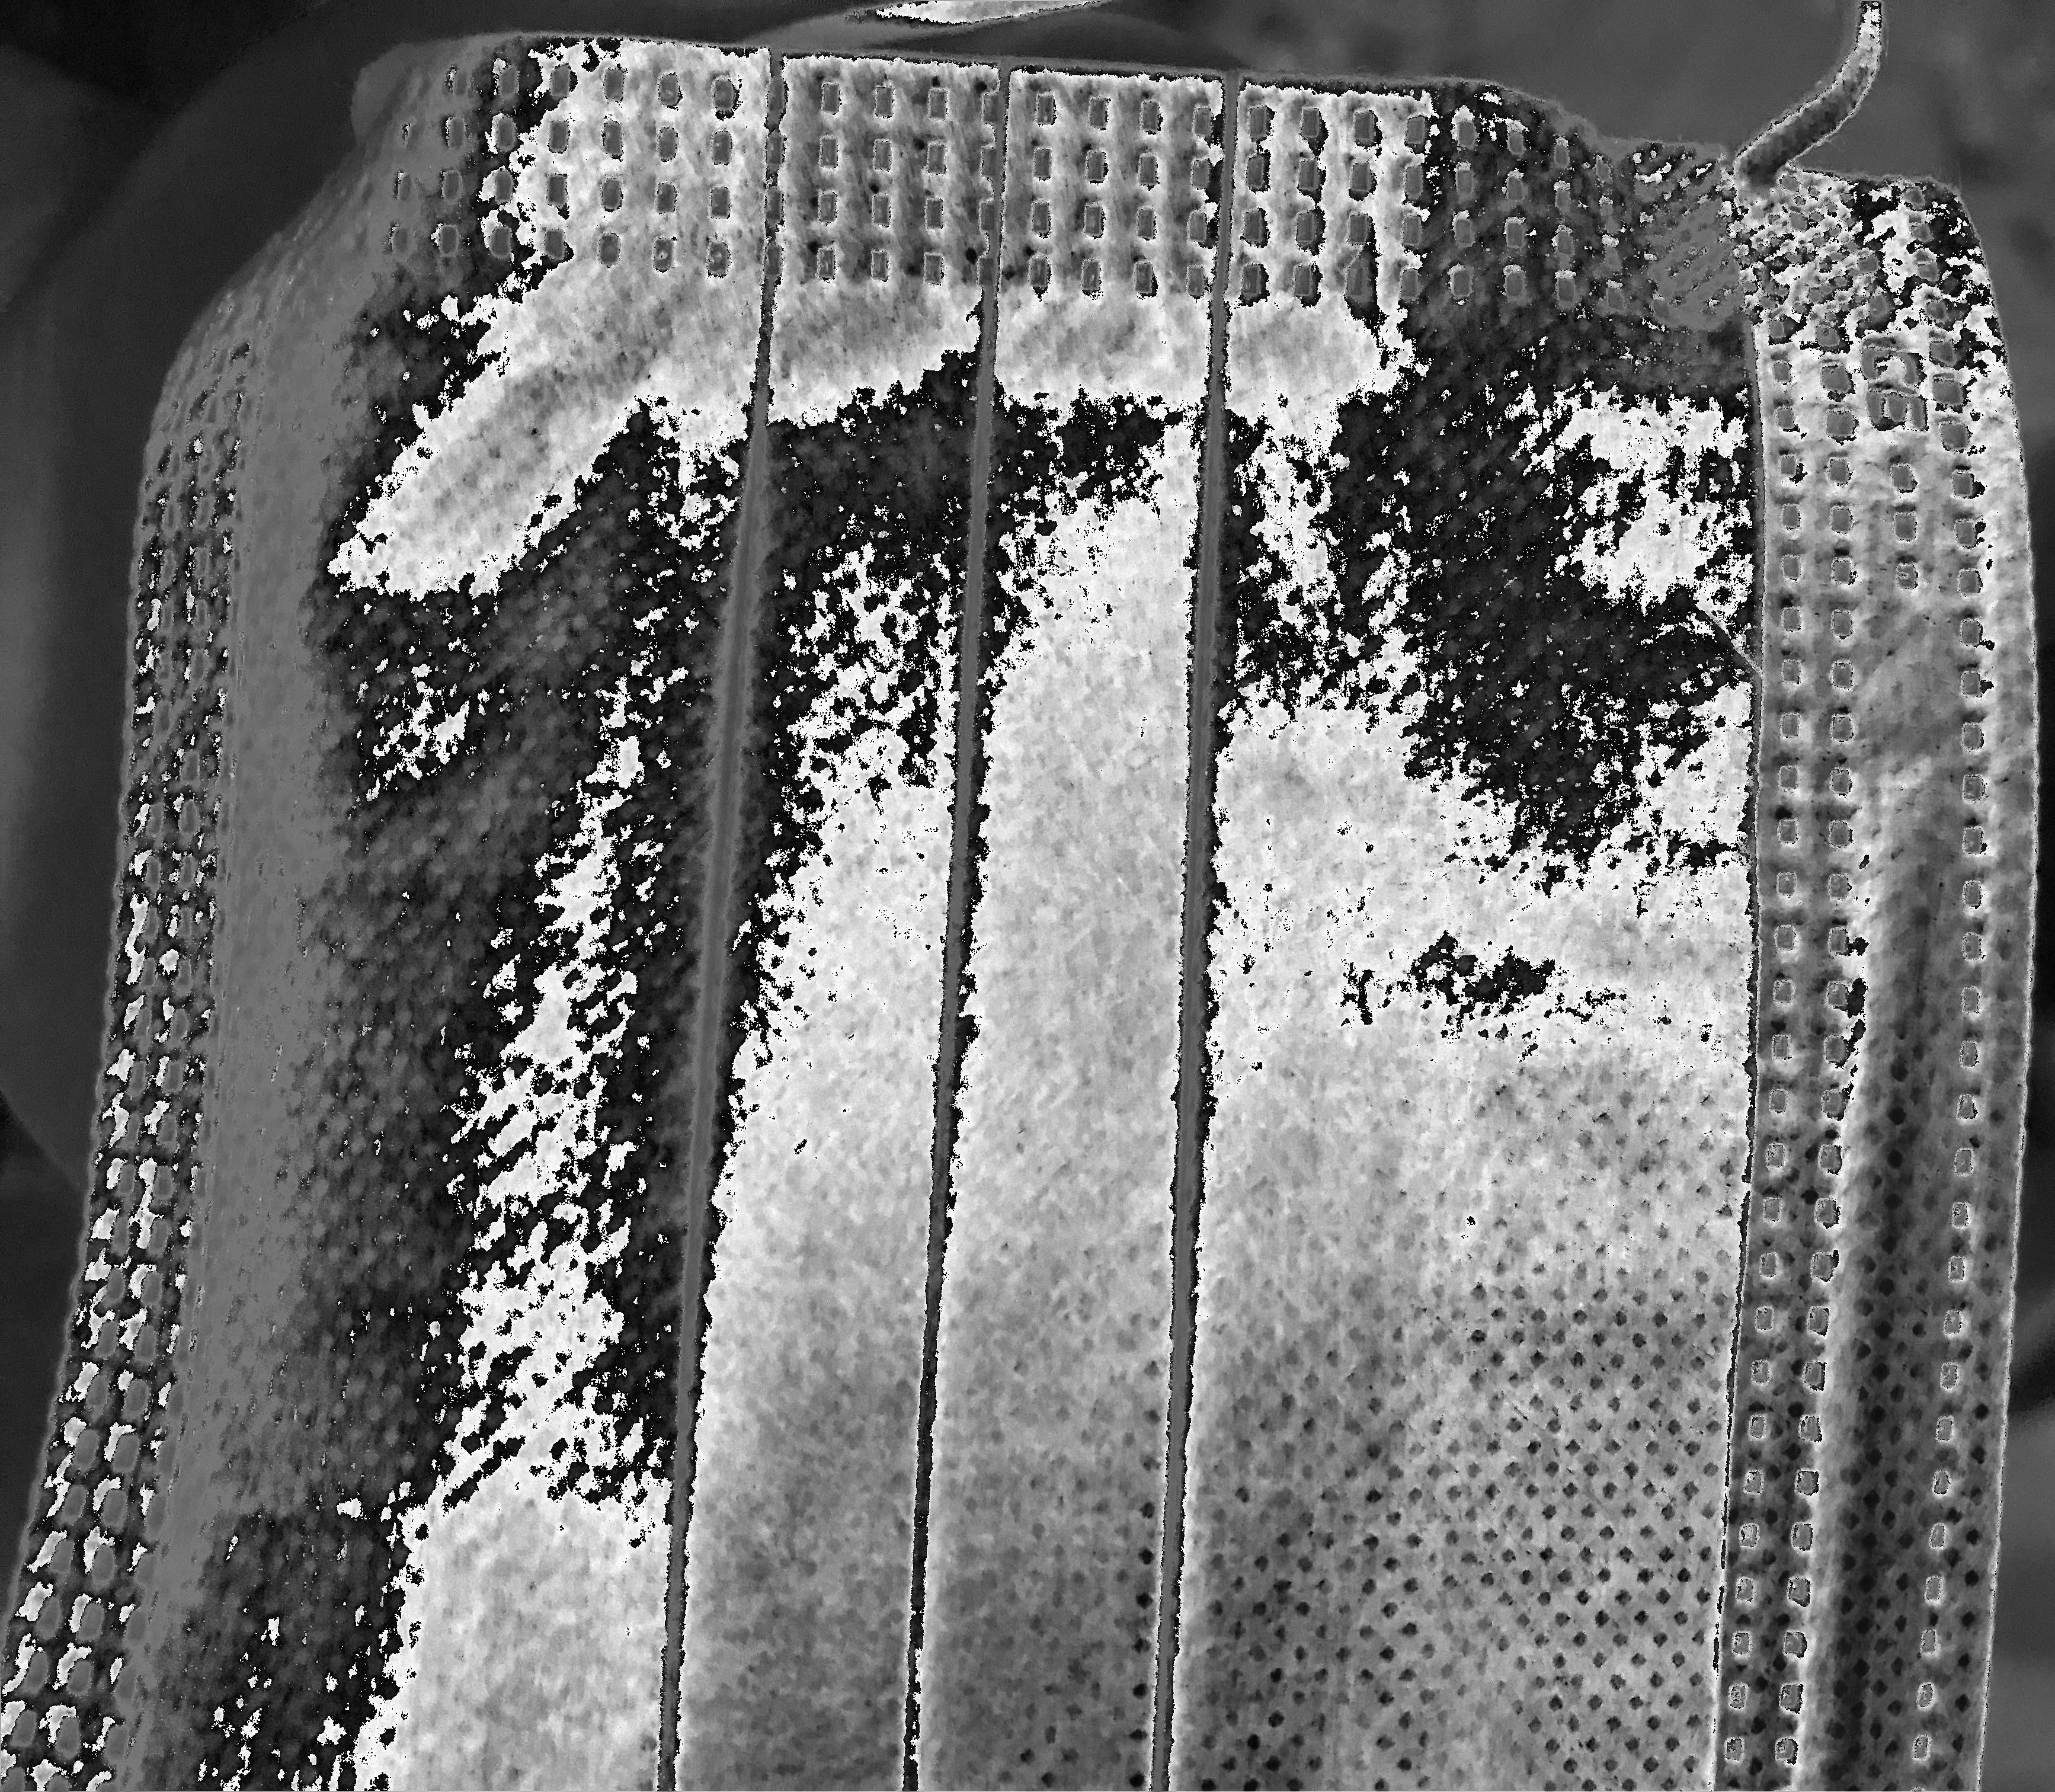High GSM: (989, 511, 1192, 738), (1393, 400, 1566, 654), (744, 741, 944, 948), (762, 397, 963, 558)
Undefined Area: (149, 49, 491, 425)
